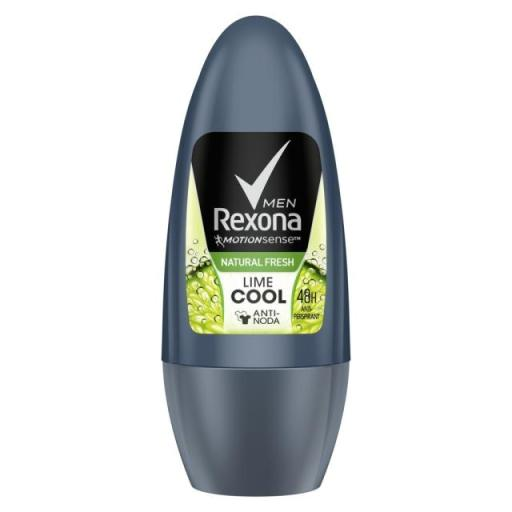plastic: (154, 9, 354, 502)
